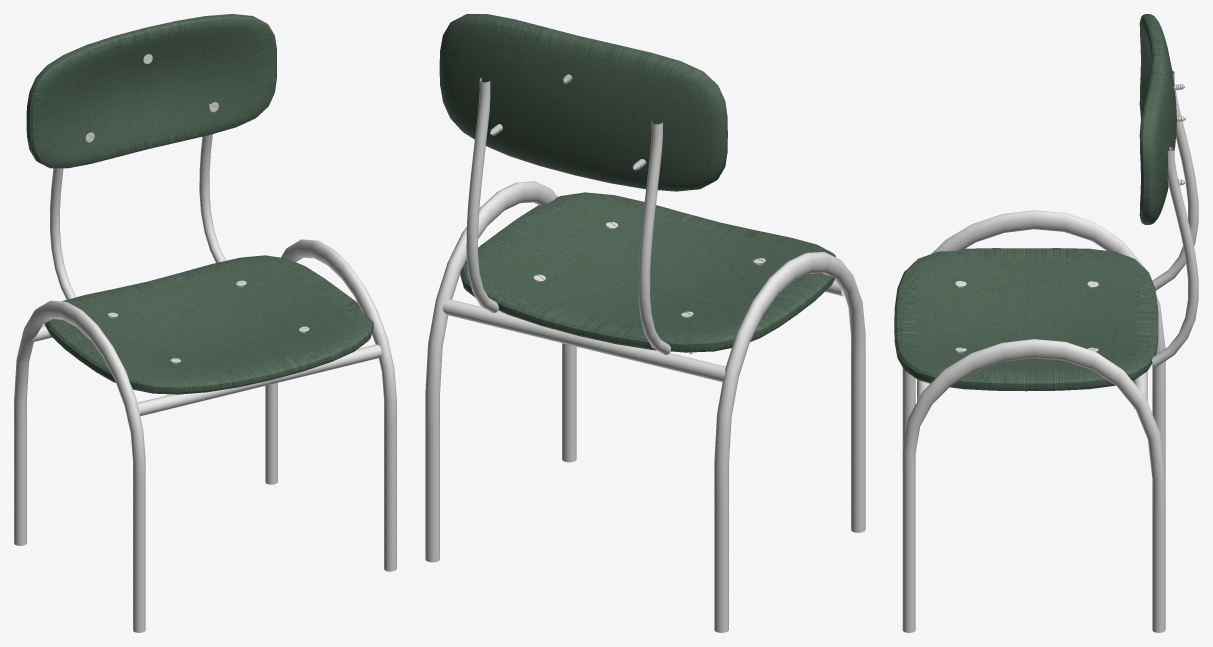
File: Silla.fbx
The picture shows the model from 3 angles, left to right: view 1: azimuth 30°, elevation 25°; view 2: azimuth 150°, elevation 25°; view 3: azimuth 270°, elevation 25°; orthographic projection. The views are drawn at different scales.
Parts seen in each view (by area): view 1: Plane, Plane.001, BezierCurve.001, BezierCurve, BezierCurve.002; view 2: Plane, Plane.001, BezierCurve.001, BezierCurve, BezierCurve.003; view 3: Plane, BezierCurve.001, Plane.001, BezierCurve.
Part boxes in pixels (box(x1,y1,x2,y2)): Plane: box(44, 255, 373, 394); Plane.001: box(26, 14, 276, 168); BezierCurve.001: box(14, 239, 396, 632); BezierCurve: box(50, 134, 225, 299); BezierCurve.002: box(137, 344, 381, 416); Plane: box(460, 192, 835, 352); Plane.001: box(439, 14, 727, 191); BezierCurve.001: box(425, 181, 865, 632); BezierCurve: box(466, 78, 670, 354); BezierCurve.003: box(442, 299, 725, 382); Plane: box(894, 248, 1158, 391); BezierCurve.001: box(902, 210, 1165, 632); Plane.001: box(1139, 14, 1176, 224); BezierCurve: box(1152, 71, 1198, 366).
Size of the model in its own units: 217 by 383 by 207.
3 materials, 1 textured.
